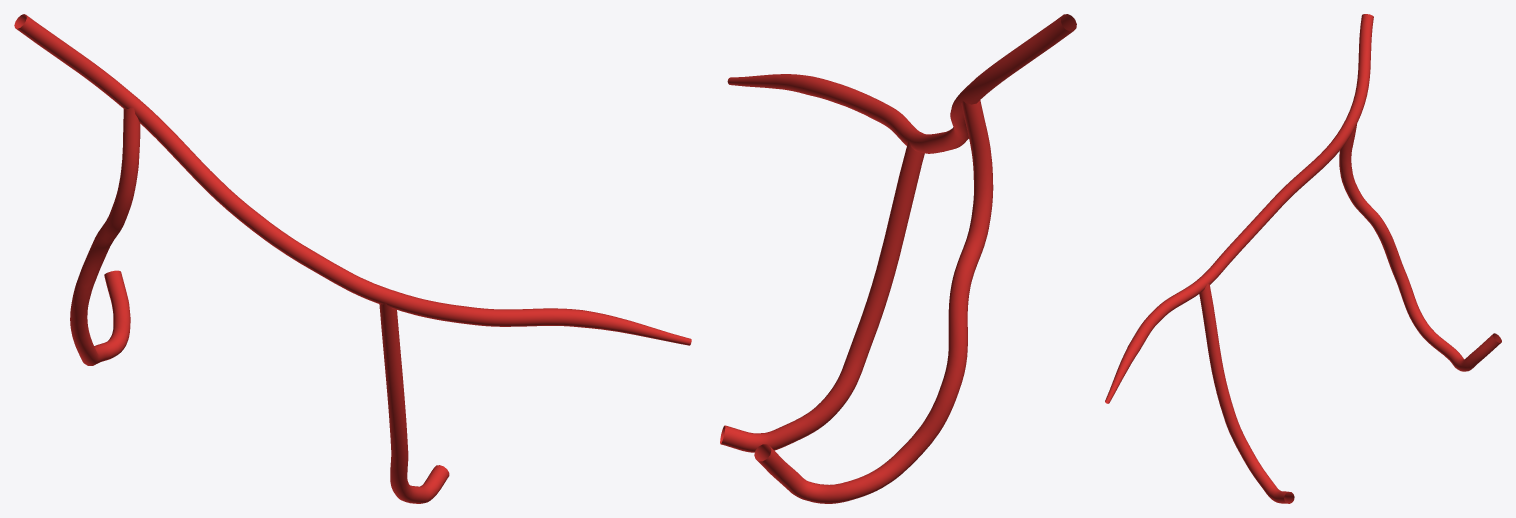
Rendered from circulatorio-inferior-labial-veins-r.glb.
3 renders of one model, left to right at view 1: azimuth 30°, elevation 25°; view 2: azimuth 150°, elevation 25°; view 3: azimuth 270°, elevation 25°, orthographic. The views are drawn at different scales.
Visible parts, largest first — view 1: Inferior labial veins.r; view 2: Inferior labial veins.r; view 3: Inferior labial veins.r.
Part boxes in pixels (box(x1,y1,x2,y2)): Inferior labial veins.r: box(14, 14, 691, 503); Inferior labial veins.r: box(720, 14, 1076, 503); Inferior labial veins.r: box(1105, 14, 1501, 503).
Bounding box in the file's own units: 0.0326 × 0.0329 × 0.0319.
